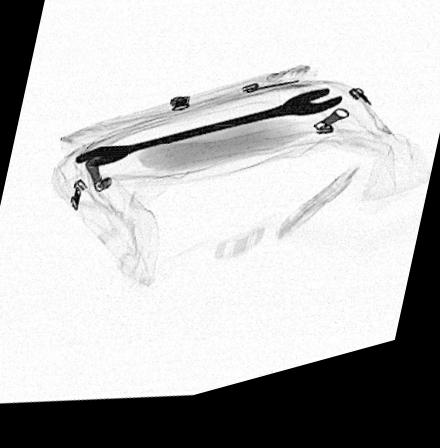Wrench: (73, 104, 341, 171)
